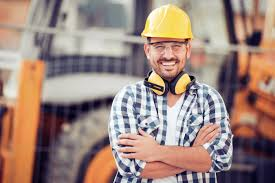hard hat: (140, 4, 194, 39)
